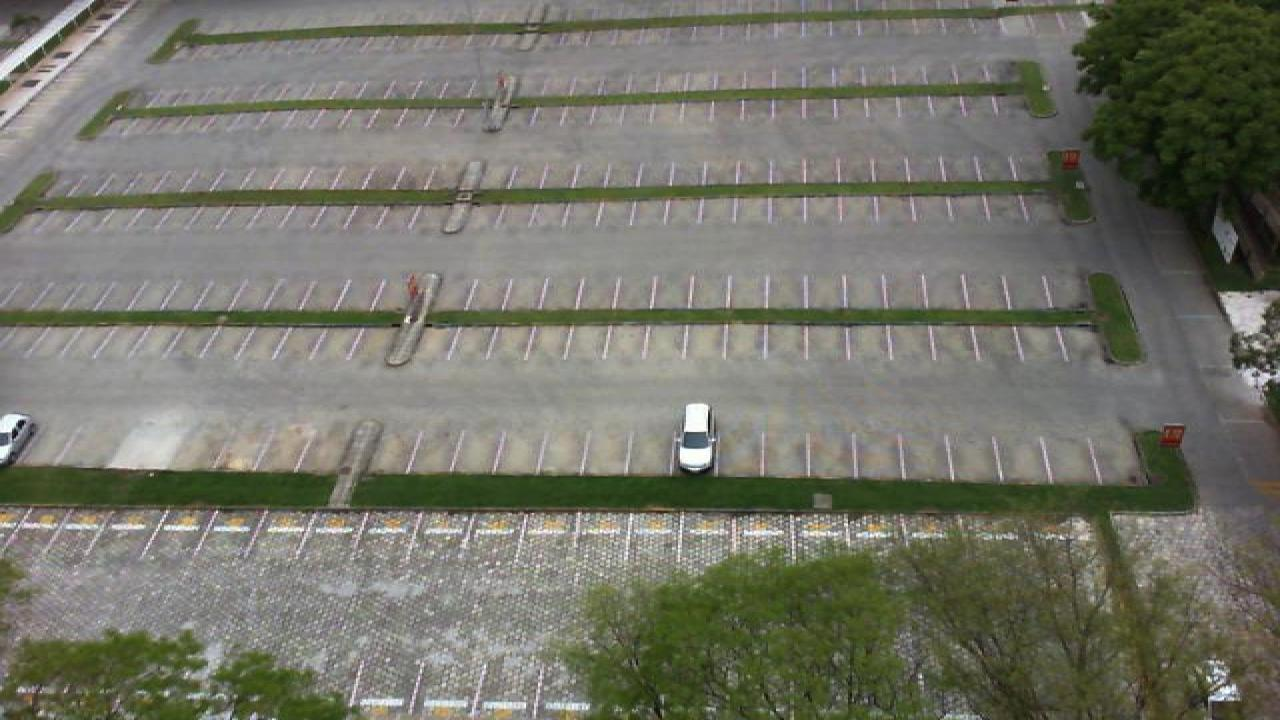Car: (674, 403, 720, 475), (0, 414, 34, 467)
